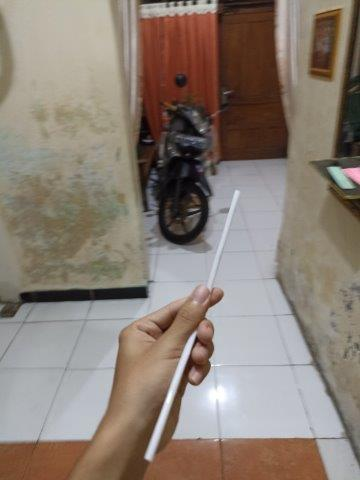sedotan: (145, 191, 237, 459)
